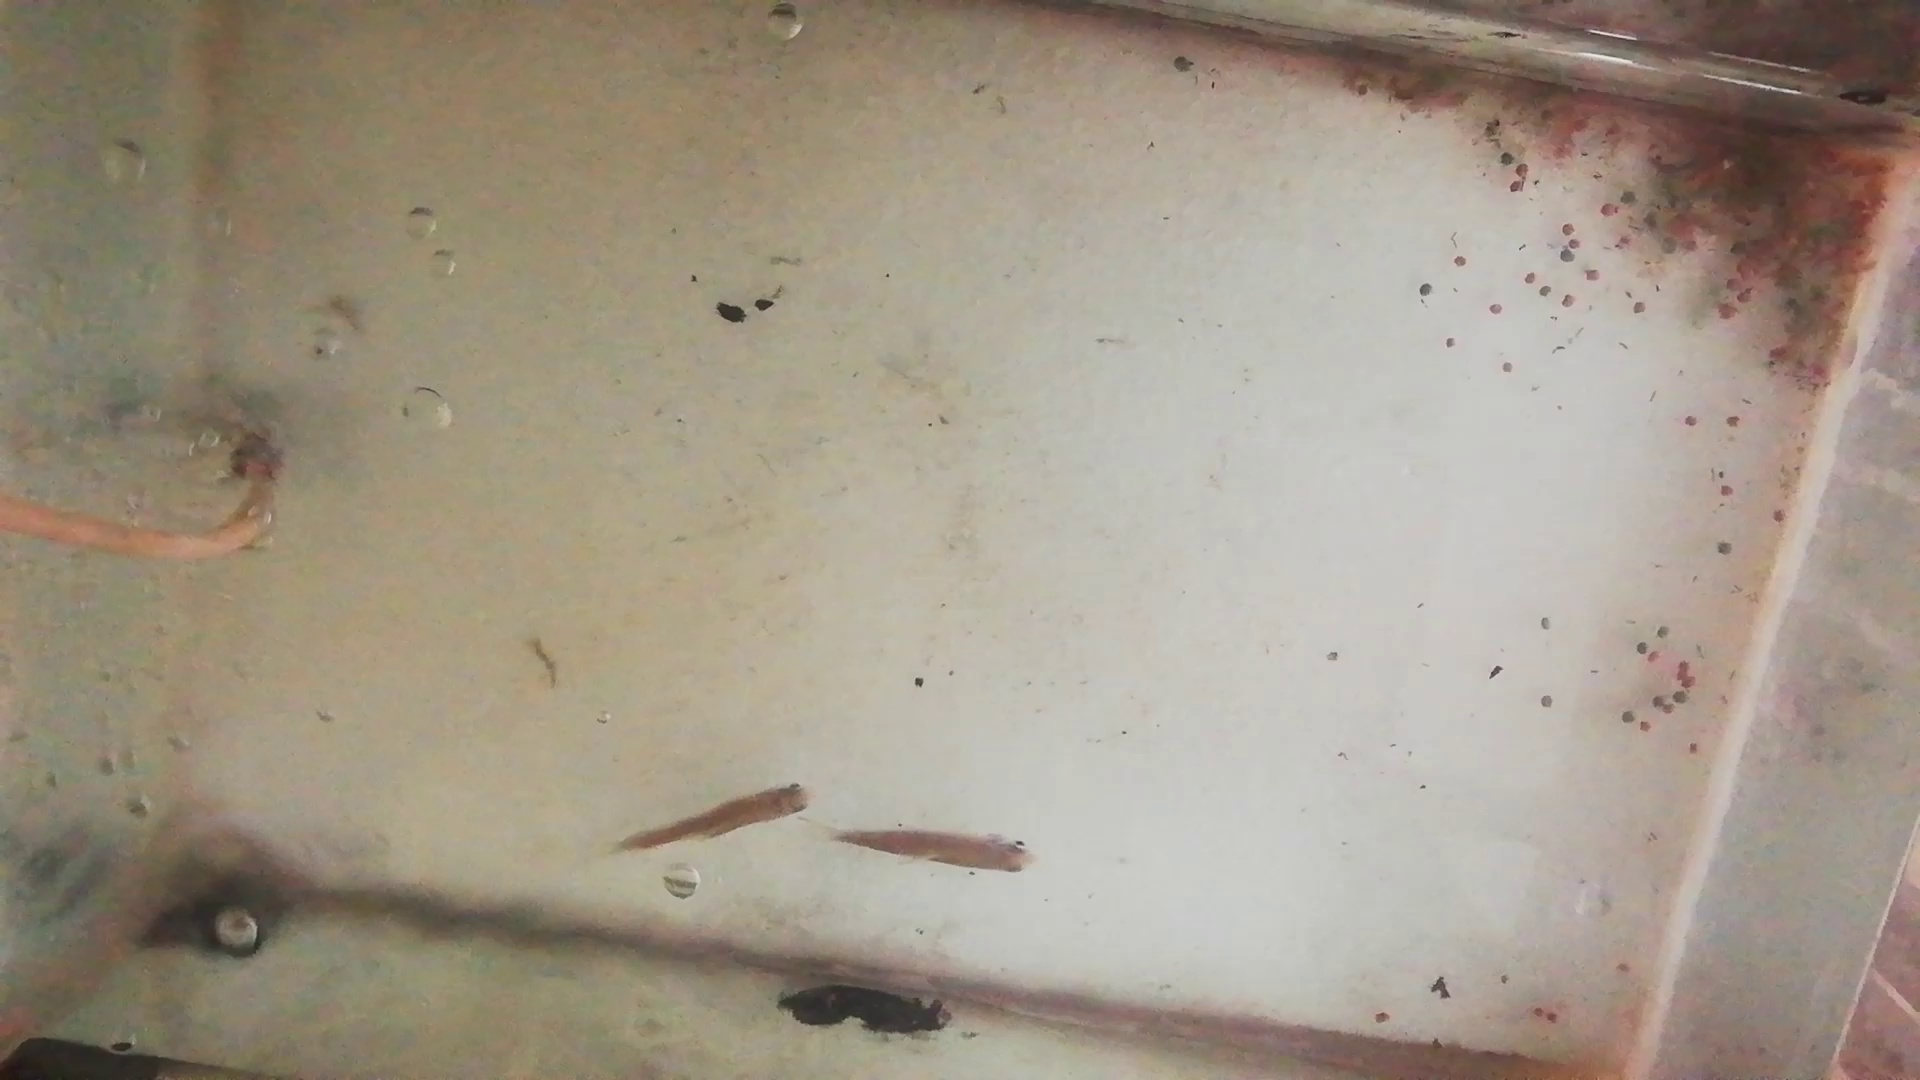fish: (622, 781, 815, 855), (833, 822, 1033, 882)
